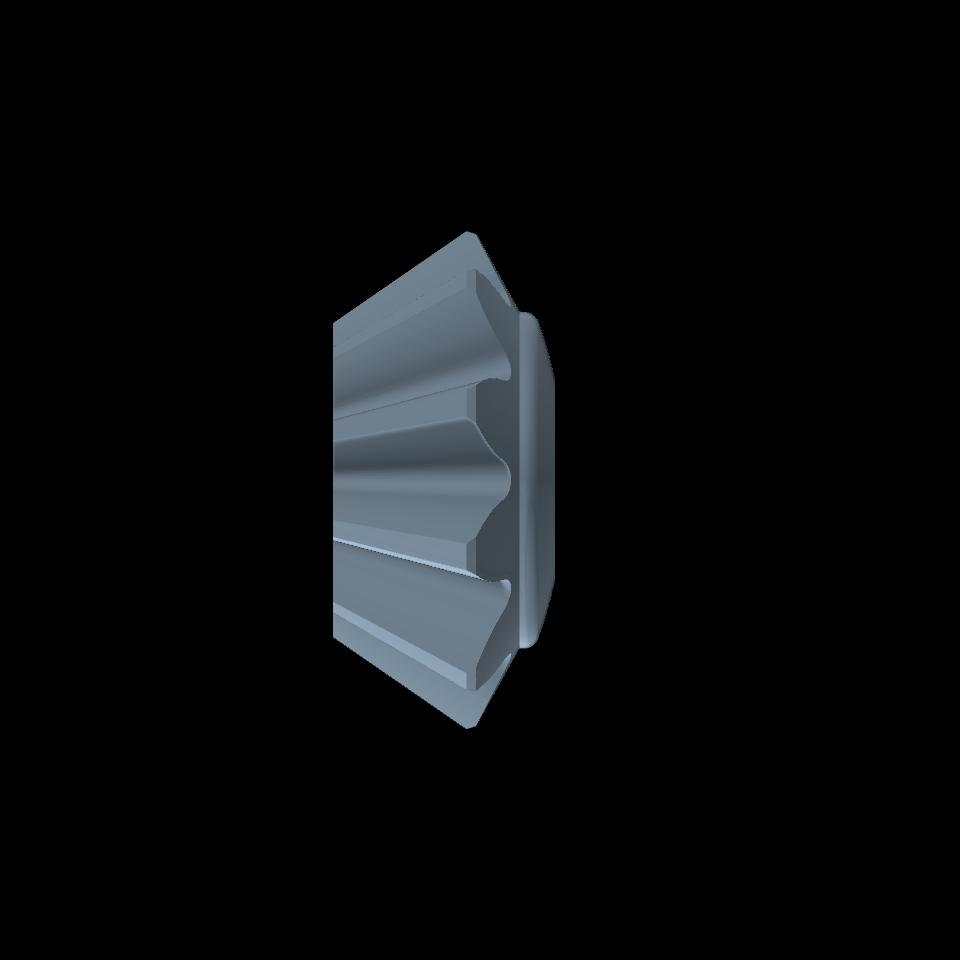Bevel: (334, 230, 519, 727)
